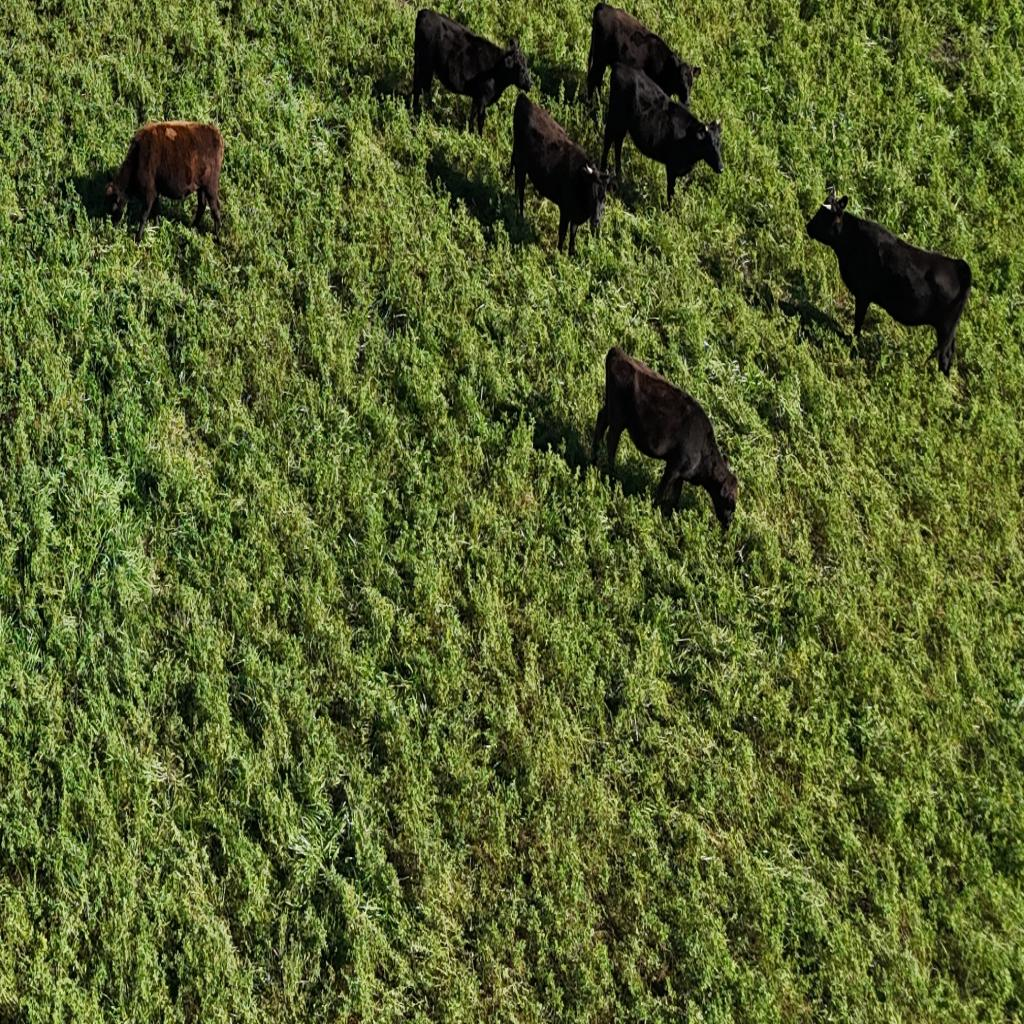cow: (804, 192, 973, 379), (597, 346, 739, 530), (602, 61, 726, 211), (509, 91, 619, 257), (410, 11, 531, 140), (105, 119, 225, 243), (586, 2, 698, 111)
